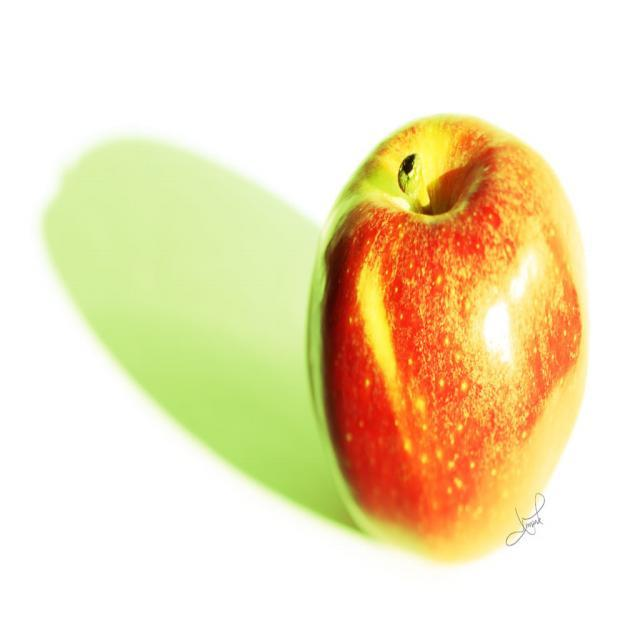Apple: (306, 111, 590, 562)
